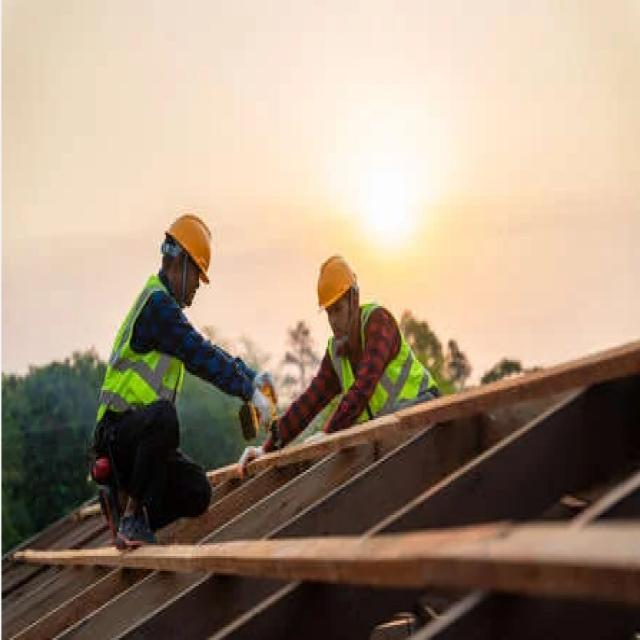hard_hat: (157, 207, 224, 304), (314, 252, 360, 340)
shoes: (91, 476, 166, 555)
vest: (90, 275, 207, 439), (323, 298, 446, 426)
